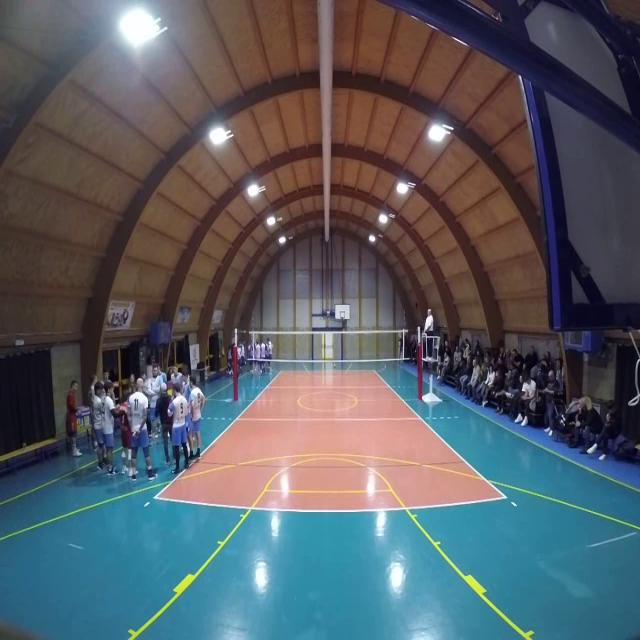Volleyball: (332, 360, 338, 370)
